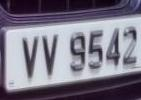2: (122, 22, 139, 71)
4: (106, 24, 123, 71)
5: (86, 26, 106, 75)
9: (66, 30, 89, 79)
V: (39, 32, 63, 81), (19, 33, 43, 81)
